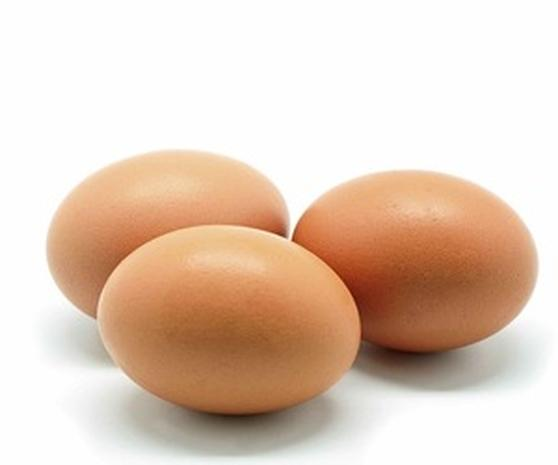egg: (89, 222, 362, 419), (304, 167, 537, 357)
